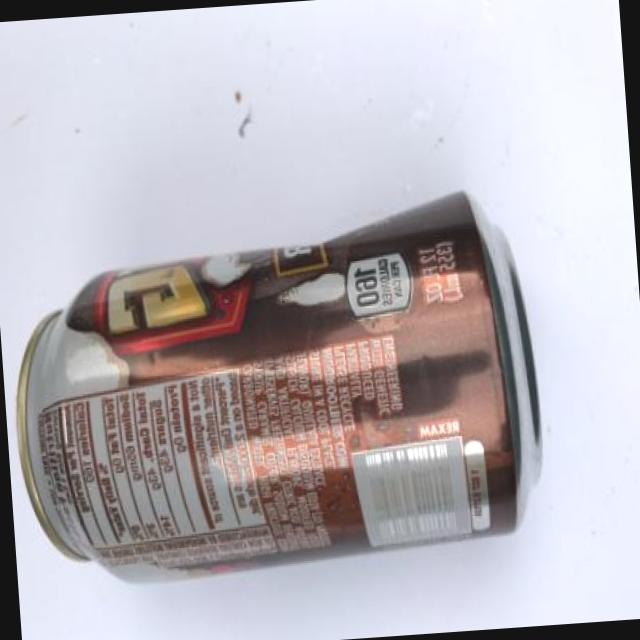kim_loai: (13, 192, 543, 584)
